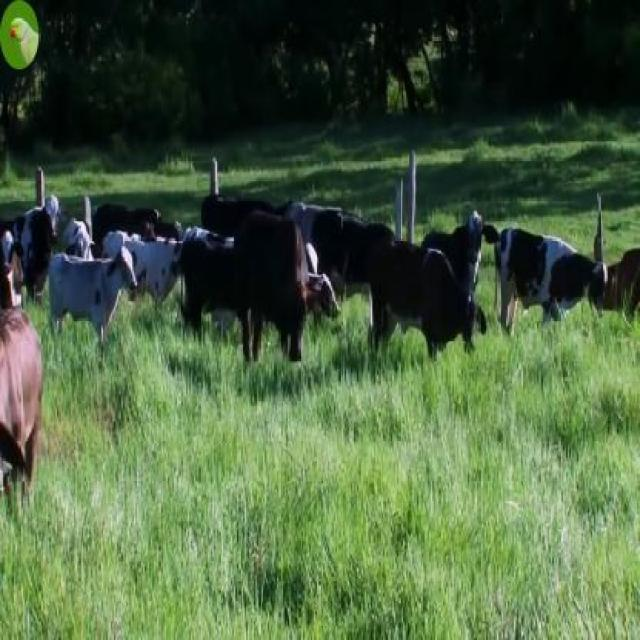Cow: (48, 243, 138, 371)
